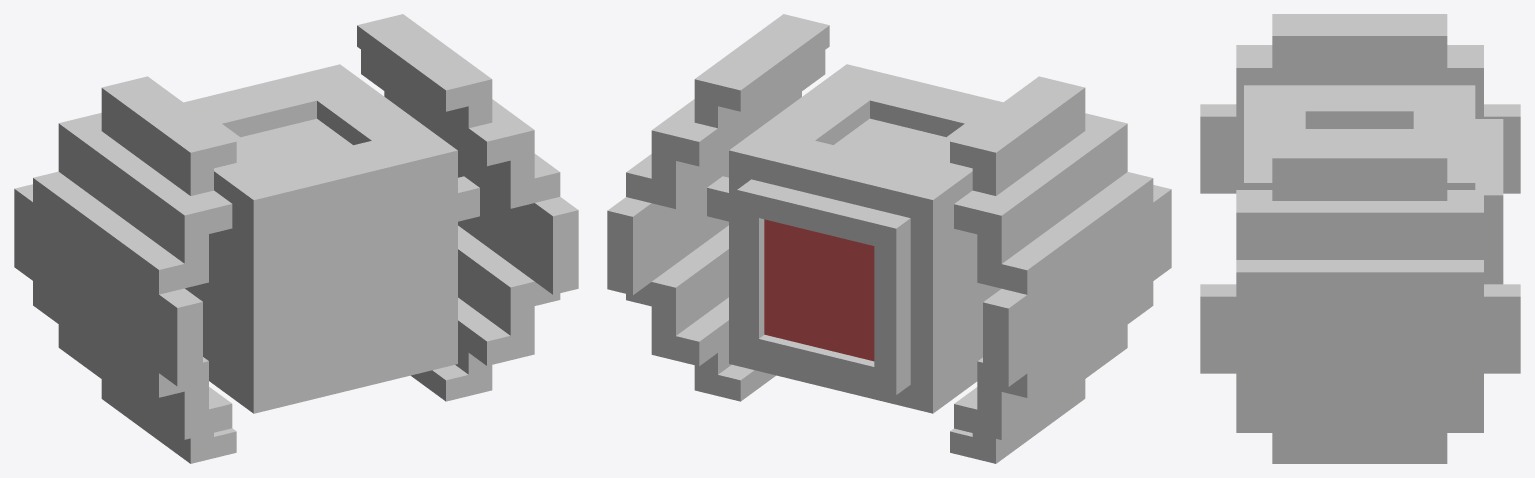
Rendered from Дрон 2.fbx.
3 views of the same model, side by side, from view 1: azimuth 30°, elevation 25°; view 2: azimuth 150°, elevation 25°; view 3: azimuth 270°, elevation 25° (orthographic).
Visible parts, largest first — view 1: dron; view 2: dron; view 3: dron.
Boxes of the visible parts, box(x1,y1,x2,y2) form: dron: box(14, 14, 578, 463); dron: box(607, 14, 1171, 463); dron: box(1200, 14, 1520, 463).
Bounding box in the file's own units: 2.77 × 3.93 × 2.91.
